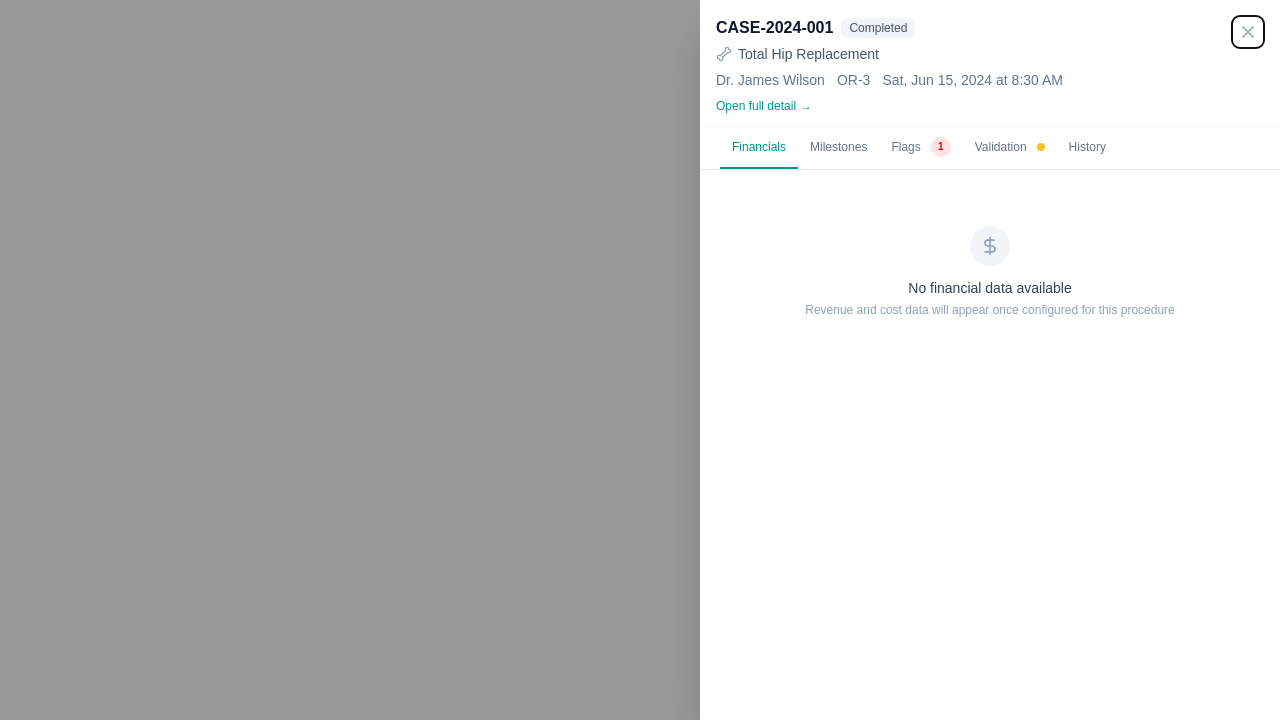
CaseDrawer — tab switching › switches from Validation back to Flags and restores content
Switch to Validation
Click the button "Validation": x=1010, y=148 top-left (963, 127), bottom-right (1056, 169)
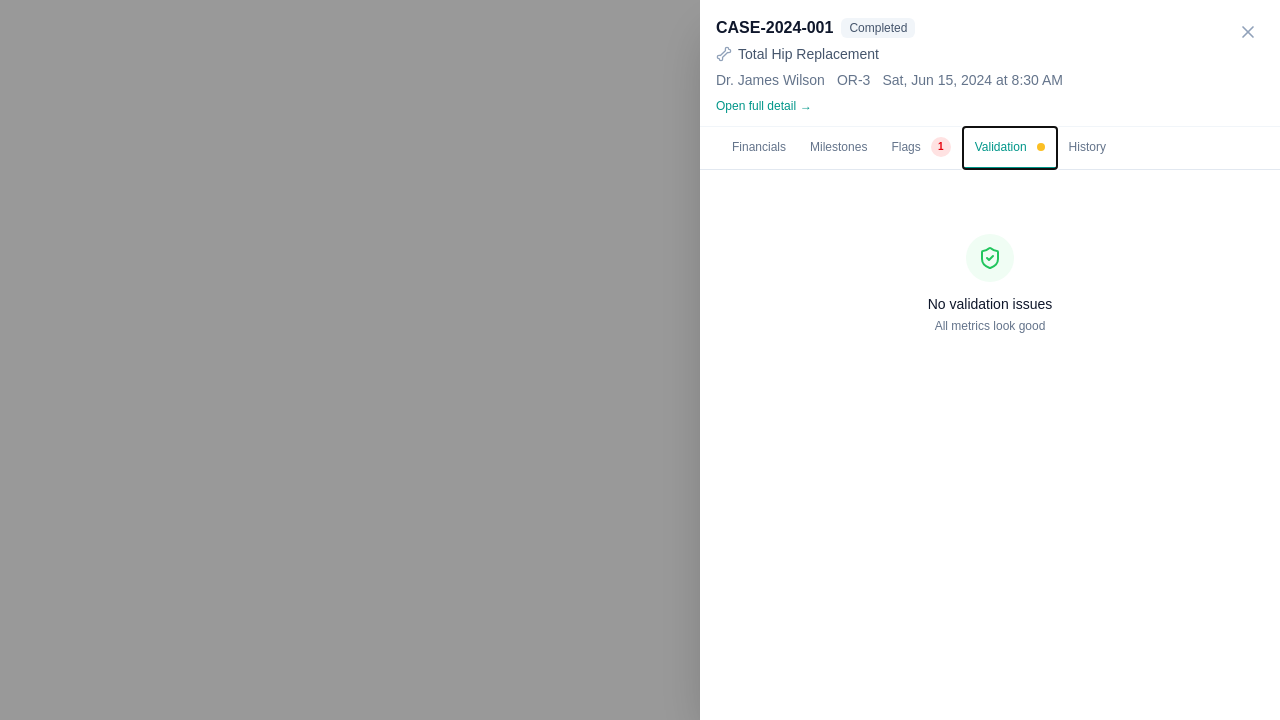
Expected: the text "Late start — 10 min behind schedule" is not shown
Switch back to Flags
Click the button "Flags 1": x=921, y=148 top-left (879, 127), bottom-right (963, 169)
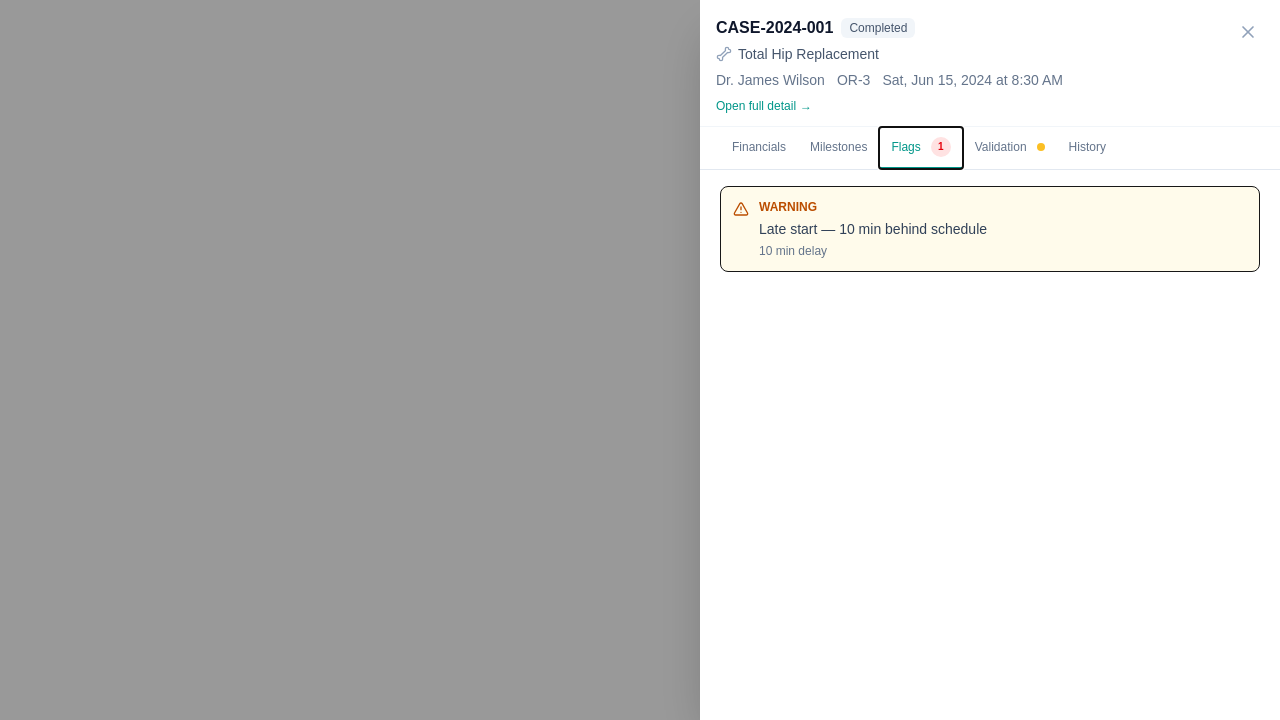
Result: the text "Late start — 10 min behind schedule" is shown at top-left (759, 221), bottom-right (987, 237)
